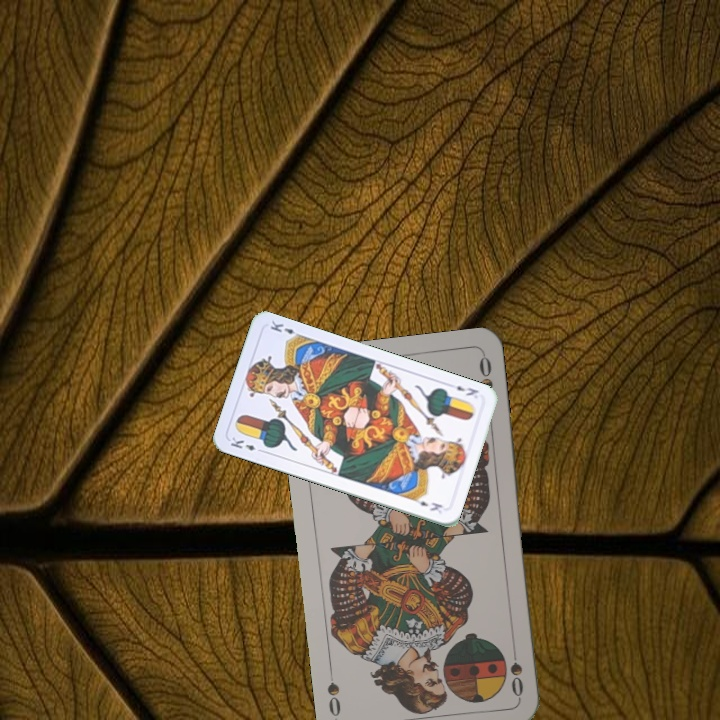EK: (226, 433, 266, 455), (452, 382, 481, 398)
SO: (506, 640, 526, 699)
